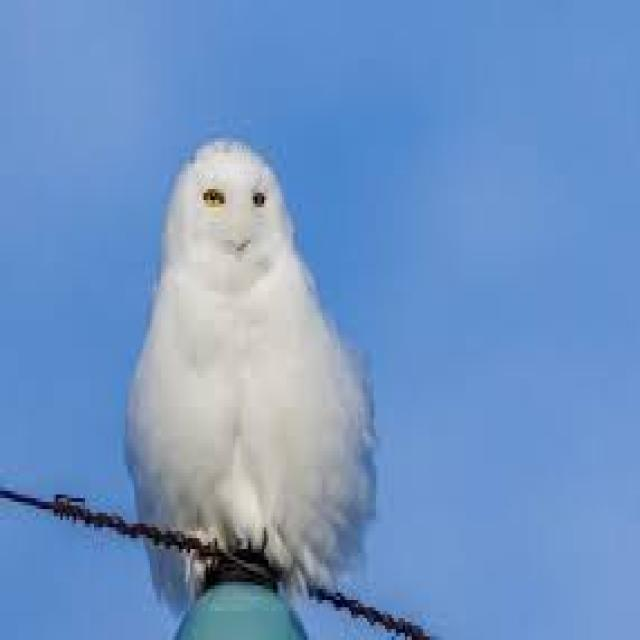snowy owl: (115, 112, 394, 596)
